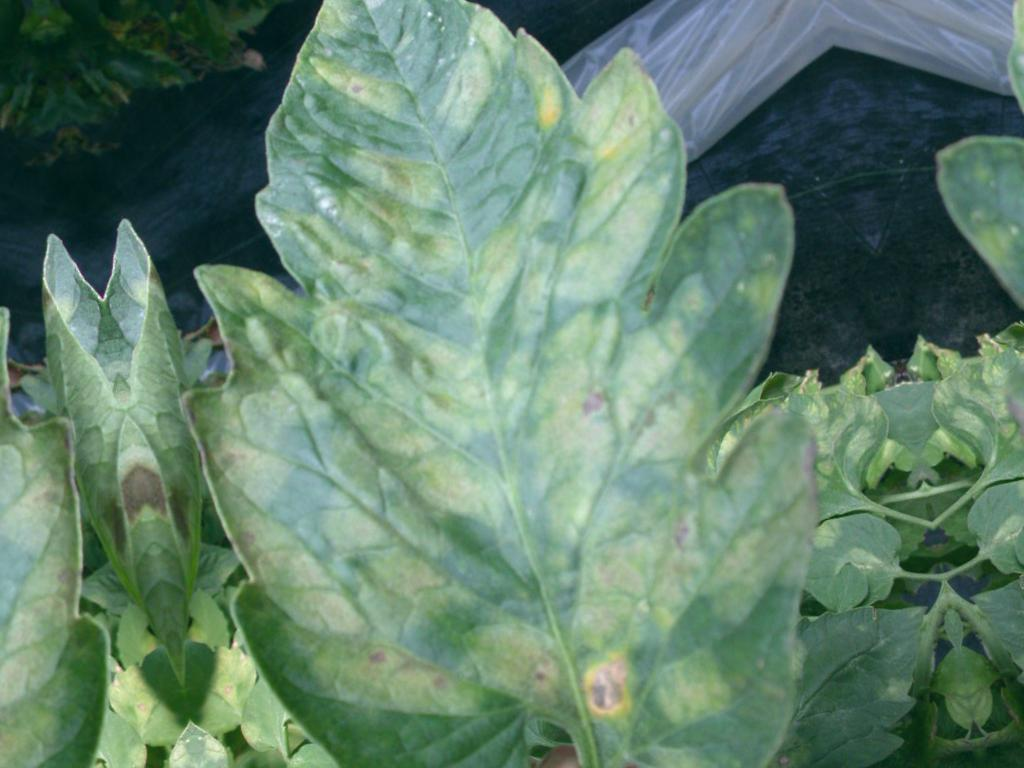Tomato mold leaf: (81, 0, 898, 768)
